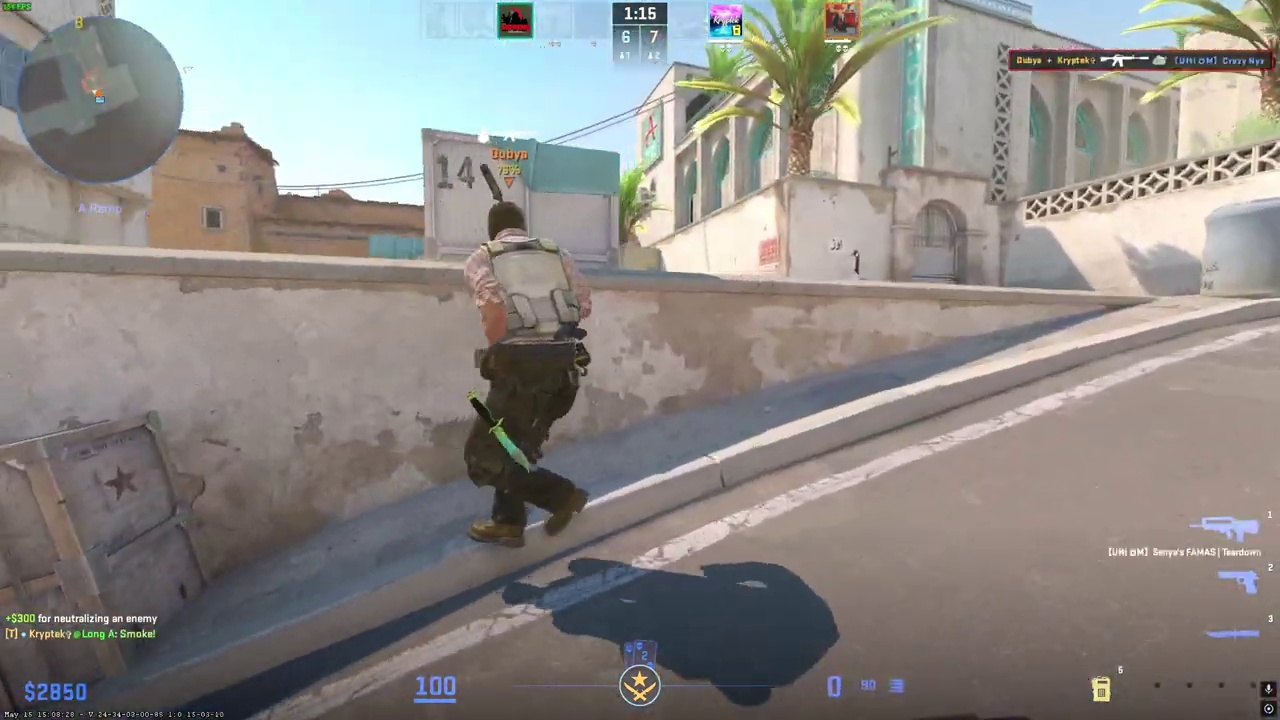Terrorist: (450, 198, 596, 550)
